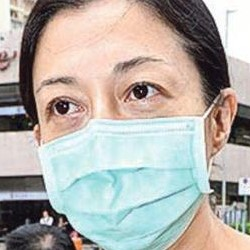mask: (34, 112, 221, 250)
